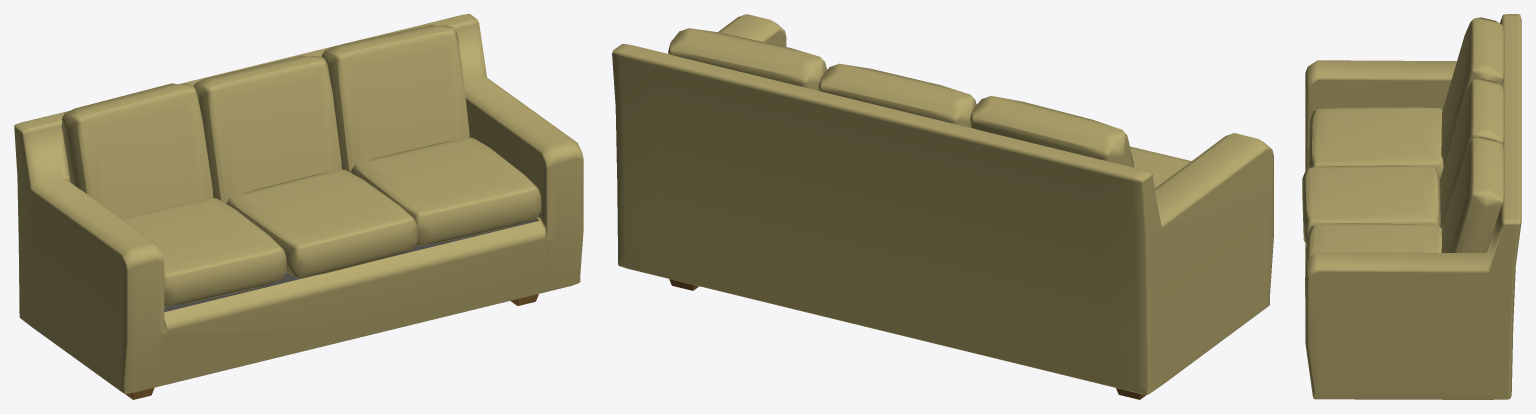
The model's file is Sofa.fbx.
3 views of the same model, side by side, from view 1: azimuth 30°, elevation 25°; view 2: azimuth 150°, elevation 25°; view 3: azimuth 270°, elevation 25° (orthographic). The views are drawn at different scales.
Visible parts, largest first — view 1: Frame, TopCushion2, TopCushion3, TopCushion1, BottomCushion2, BottomCushion3, BottomCushion1; view 2: Frame, TopCushion1, TopCushion2, TopCushion3, BottomCushion1; view 3: Frame, BottomCushion2, BottomCushion1, TopCushion3, BottomCushion3, TopCushion1, TopCushion2.
Boxes of the visible parts, x1,y1,x2,y2 form: Frame: (14, 14, 583, 393); TopCushion2: (194, 55, 341, 203); TopCushion3: (321, 24, 469, 171); TopCushion1: (61, 83, 213, 218); BottomCushion2: (226, 169, 417, 278); BottomCushion3: (350, 137, 541, 245); BottomCushion1: (121, 198, 286, 306); Frame: (612, 14, 1273, 394); TopCushion1: (970, 96, 1134, 167); TopCushion2: (818, 63, 976, 127); TopCushion3: (668, 28, 826, 90); BottomCushion1: (1130, 146, 1191, 188); Frame: (1305, 14, 1521, 399); BottomCushion2: (1302, 165, 1440, 246); BottomCushion1: (1309, 107, 1443, 178); TopCushion3: (1441, 136, 1504, 252); BottomCushion3: (1305, 223, 1442, 296); TopCushion1: (1441, 17, 1504, 166); TopCushion2: (1440, 78, 1504, 228).
Bounding box in the file's own units: 345 × 161 × 153.
